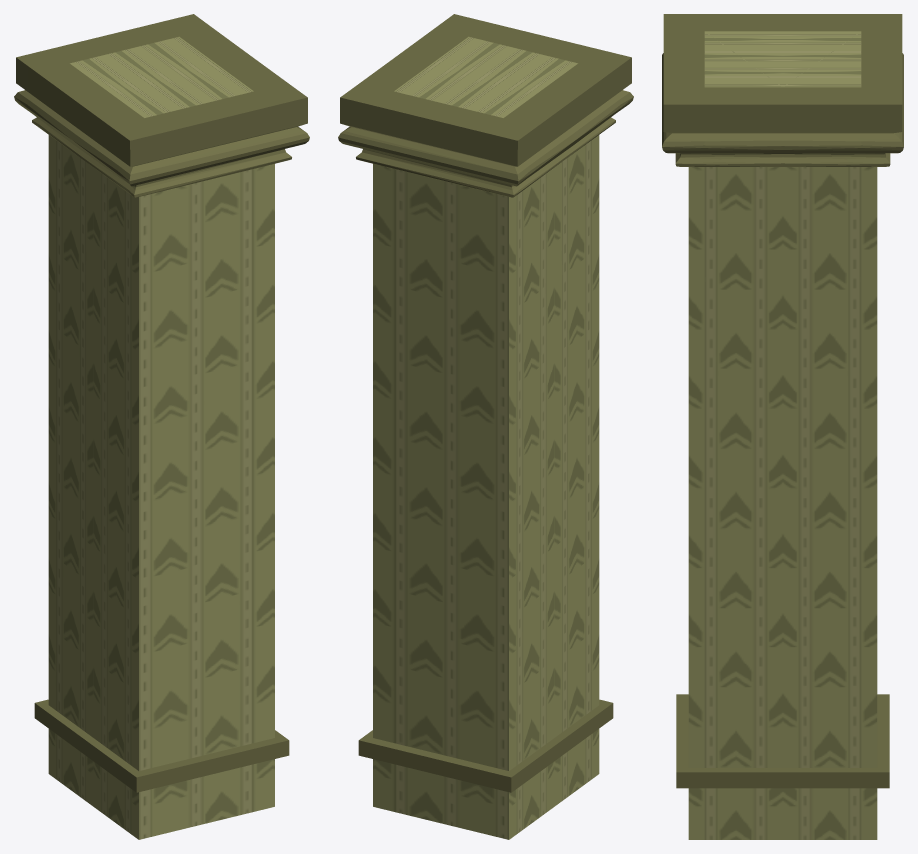
Rendered from wall pillar.fbx.
3 views of the same model, side by side, from view 1: azimuth 30°, elevation 25°; view 2: azimuth 150°, elevation 25°; view 3: azimuth 270°, elevation 25° (orthographic). The views are drawn at different scales.
Parts seen in each view (by area): view 1: wall, wall skirting, Cube.003; view 2: wall, wall skirting, Cube.003; view 3: wall, wall skirting, Cube.003.
Boxes of the visible parts, left/top/right/bottom form: wall: left=48, top=36, right=274, bottom=839; wall skirting: left=14, top=14, right=309, bottom=197; Cube.003: left=34, top=699, right=289, bottom=792; wall: left=373, top=36, right=599, bottom=839; wall skirting: left=338, top=14, right=633, bottom=197; Cube.003: left=358, top=699, right=613, bottom=792; wall: left=688, top=31, right=877, bottom=839; wall skirting: left=662, top=14, right=903, bottom=166; Cube.003: left=676, top=694, right=889, bottom=788.
Size of the model in its own units: 265 by 1000 by 294.
